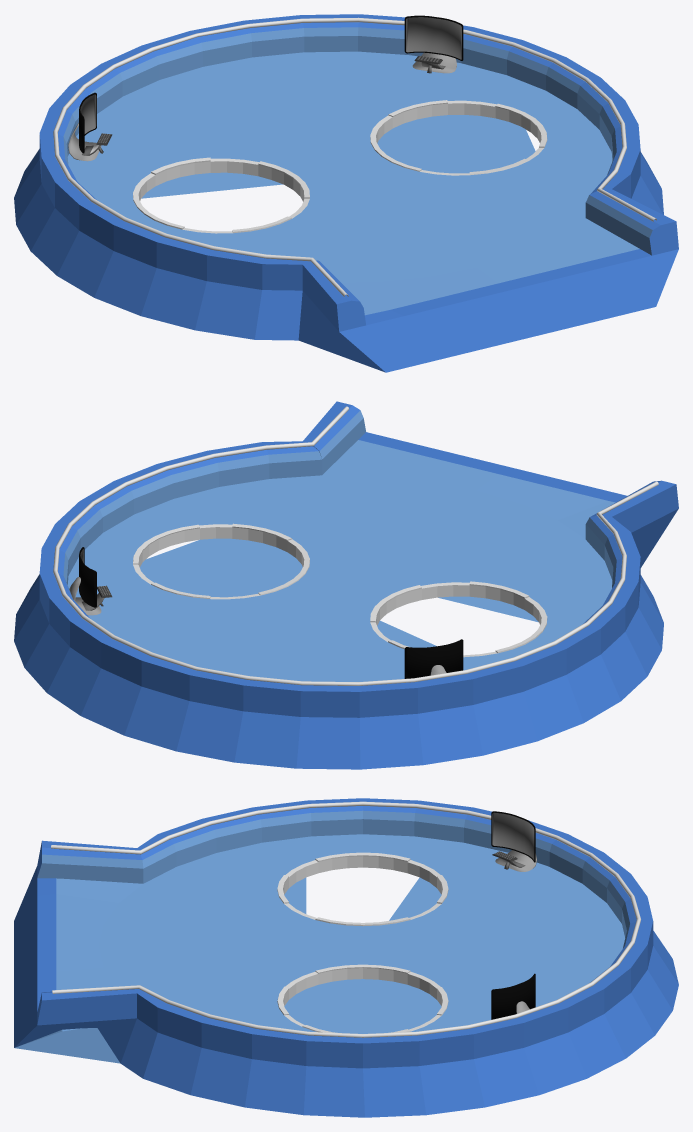
The model's file is Platform 1.2 - Base.fbx.
3 renders of one model, top to bottom at view 1: azimuth 30°, elevation 25°; view 2: azimuth 150°, elevation 25°; view 3: azimuth 270°, elevation 25°, orthographic. The views are drawn at different scales.
Visible parts, largest first — view 1: BasePlatform-1.2; view 2: BasePlatform-1.2; view 3: BasePlatform-1.2.
Boxes of the visible parts, x1,y1,x2,y2 form: BasePlatform-1.2: (14,14,678,372); BasePlatform-1.2: (14,401,678,769); BasePlatform-1.2: (14,798,678,1117).
Bounding box in the file's own units: 2781 × 413 × 2945.
